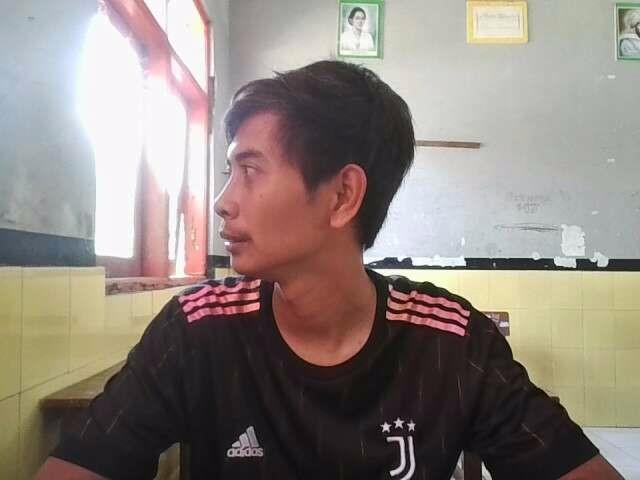cheating: (29, 52, 615, 480)
